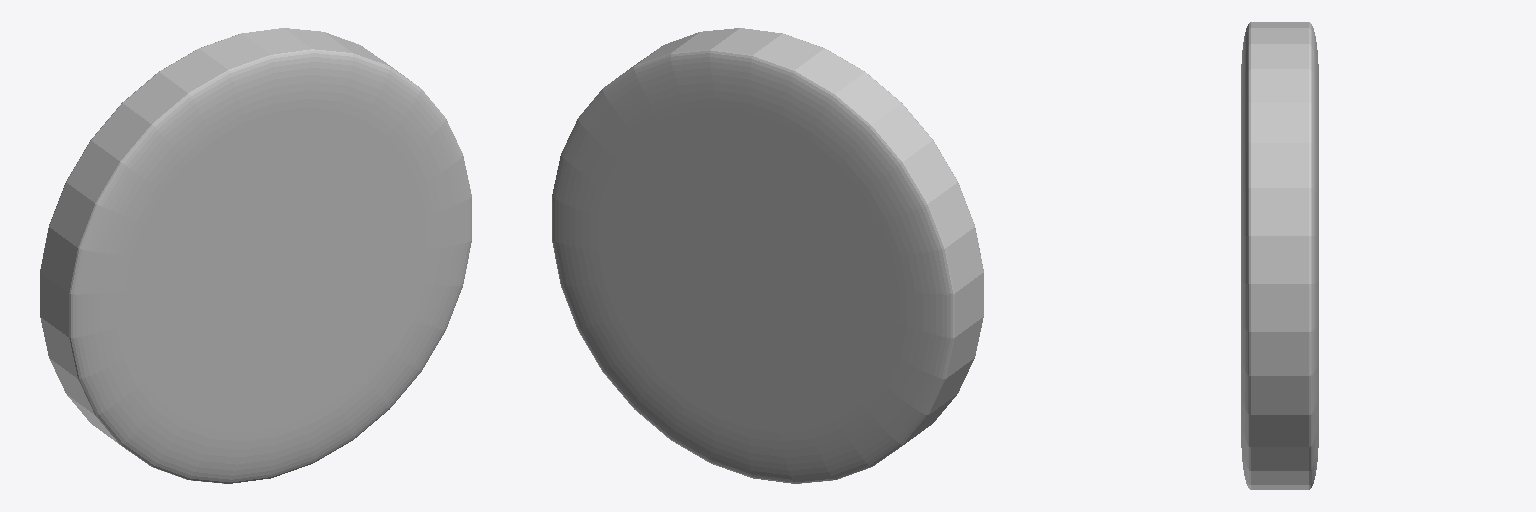
Rendered from cookiebase.obj.
The picture shows the model from 3 angles: view 1: azimuth 30°, elevation 25°; view 2: azimuth 150°, elevation 25°; view 3: azimuth 270°, elevation 25°; orthographic projection.
Parts seen in each view (by area): view 1: obj_0; view 2: obj_0; view 3: obj_0.
Part boxes in pixels (bbox=[...]): obj_0: bbox=[40, 28, 471, 483]; obj_0: bbox=[552, 28, 983, 483]; obj_0: bbox=[1241, 22, 1318, 489].
Bounding box in the file's own units: 29.84 × 30 × 5.